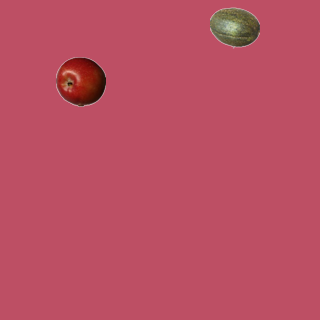Apple Braeburn: (55, 56, 105, 106)
Melon Piel de Sapo: (209, 2, 259, 52)
